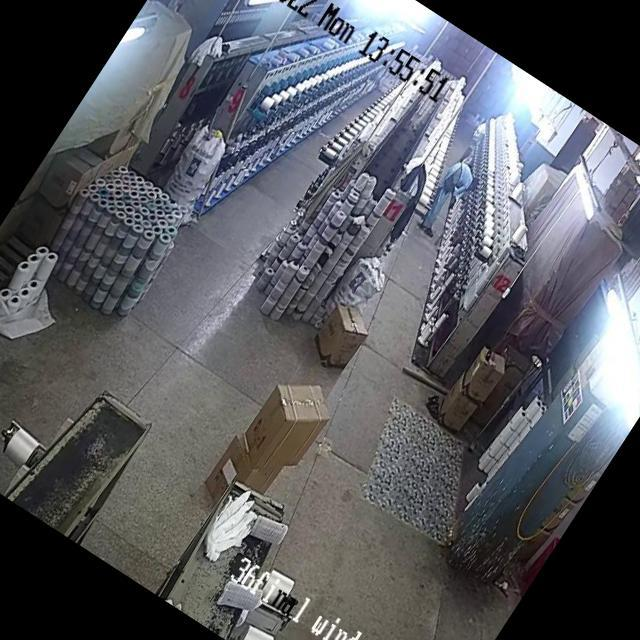person: (413, 157, 483, 243)
